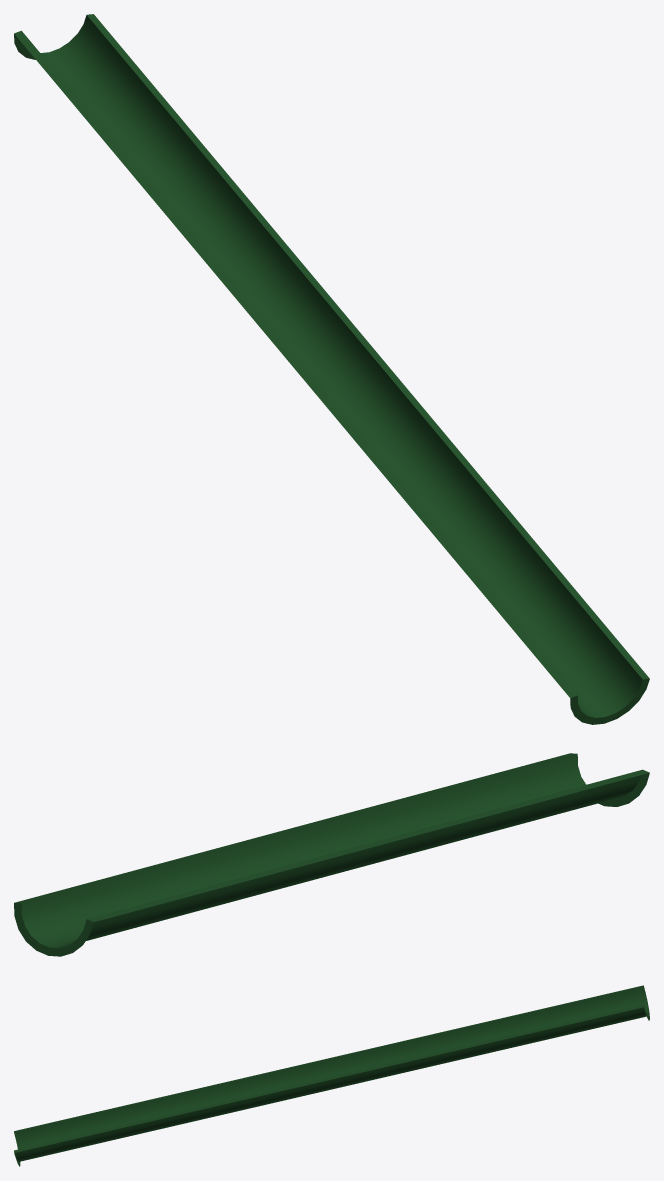
File: TTT.fbx
The picture shows the model from 3 angles, top to bottom: view 1: azimuth 30°, elevation 25°; view 2: azimuth 150°, elevation 25°; view 3: azimuth 270°, elevation 25°; orthographic projection. The views are drawn at different scales.
Parts seen in each view (by area): view 1: pCylinder1; view 2: pCylinder1; view 3: pCylinder1.
Boxes of the visible parts, box(x1,y1,x2,y2) form: pCylinder1: box(14, 14, 649, 724); pCylinder1: box(14, 753, 649, 956); pCylinder1: box(14, 985, 649, 1166).
Bounding box in the file's own units: 2.46 × 8.77 × 29.97.
